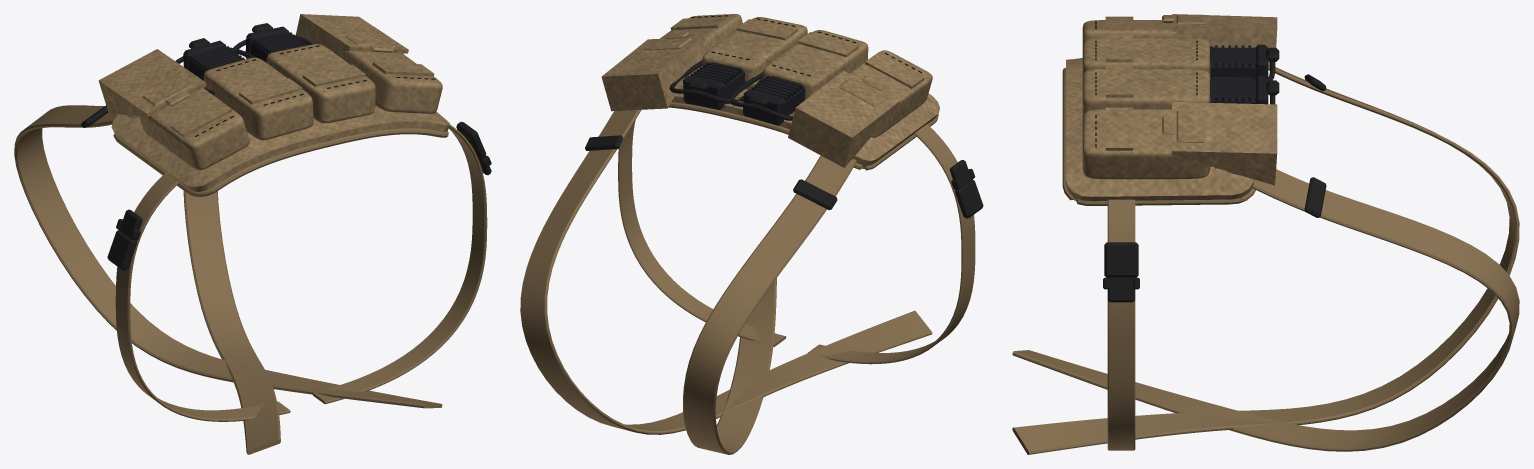
Rendered from peitoral_carregadores.glb.
3 renders of one model, left to right at view 1: azimuth 30°, elevation 25°; view 2: azimuth 150°, elevation 25°; view 3: azimuth 270°, elevation 25°, orthographic. The views are drawn at different scales.
Visible parts, largest first — view 1: peitoral_carregadores_cordura_coiote, peitoral_carregadores_nylon_coiote, peitoral_carregadores_polimero_mag, peitoral_carregadores_nylon_preto; view 2: peitoral_carregadores_nylon_coiote, peitoral_carregadores_cordura_coiote, peitoral_carregadores_polimero_mag, peitoral_carregadores_nylon_preto, peitoral_carregadores_elastico_preto; view 3: peitoral_carregadores_nylon_coiote, peitoral_carregadores_cordura_coiote, peitoral_carregadores_polimero_mag, peitoral_carregadores_nylon_preto.
Part boxes in pixels (x1,y1,x2,y2): peitoral_carregadores_cordura_coiote: [98, 14, 450, 191]; peitoral_carregadores_nylon_coiote: [14, 105, 487, 454]; peitoral_carregadores_polimero_mag: [183, 26, 333, 80]; peitoral_carregadores_nylon_preto: [81, 23, 491, 270]; peitoral_carregadores_nylon_coiote: [520, 102, 975, 454]; peitoral_carregadores_cordura_coiote: [601, 14, 939, 168]; peitoral_carregadores_polimero_mag: [683, 62, 805, 125]; peitoral_carregadores_nylon_preto: [585, 80, 983, 218]; peitoral_carregadores_elastico_preto: [669, 60, 793, 120]; peitoral_carregadores_nylon_coiote: [1012, 67, 1519, 454]; peitoral_carregadores_cordura_coiote: [1066, 14, 1277, 201]; peitoral_carregadores_polimero_mag: [1210, 44, 1268, 168]; peitoral_carregadores_nylon_preto: [1103, 47, 1326, 302].
Size of the model in its own units: 0.414 by 0.3643 by 0.4559.
Materials: 7 (3 with a texture image).
